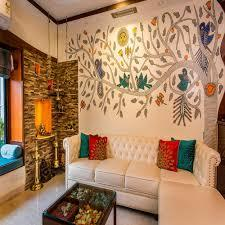light: (109, 0, 135, 10)
sofa: (62, 130, 222, 214), (0, 140, 28, 202)
table: (42, 181, 119, 225), (159, 181, 225, 225), (34, 131, 61, 187)
